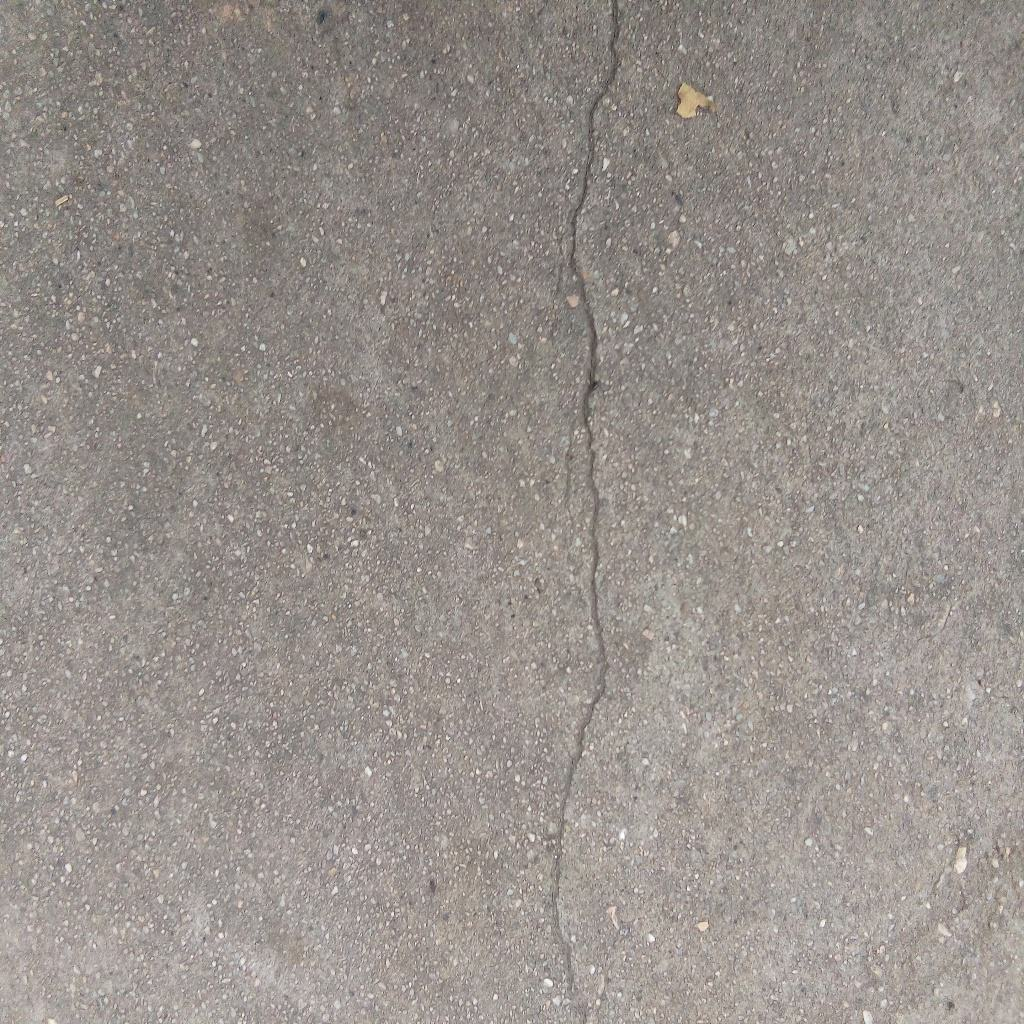Crack: (543, 1, 619, 1024)
